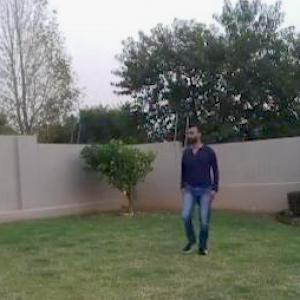follow: (173, 117, 224, 263)
